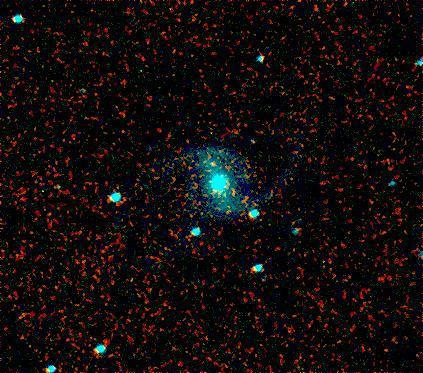star: (198, 149, 228, 179)
